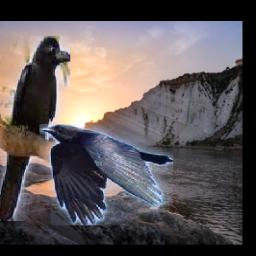Crow: (40, 124, 174, 225), (0, 36, 70, 221)
